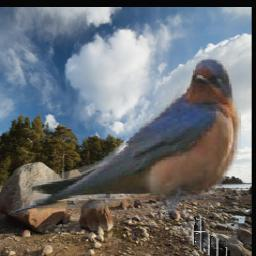Crow: (192, 215, 230, 256)
Swallow: (7, 58, 240, 217)
